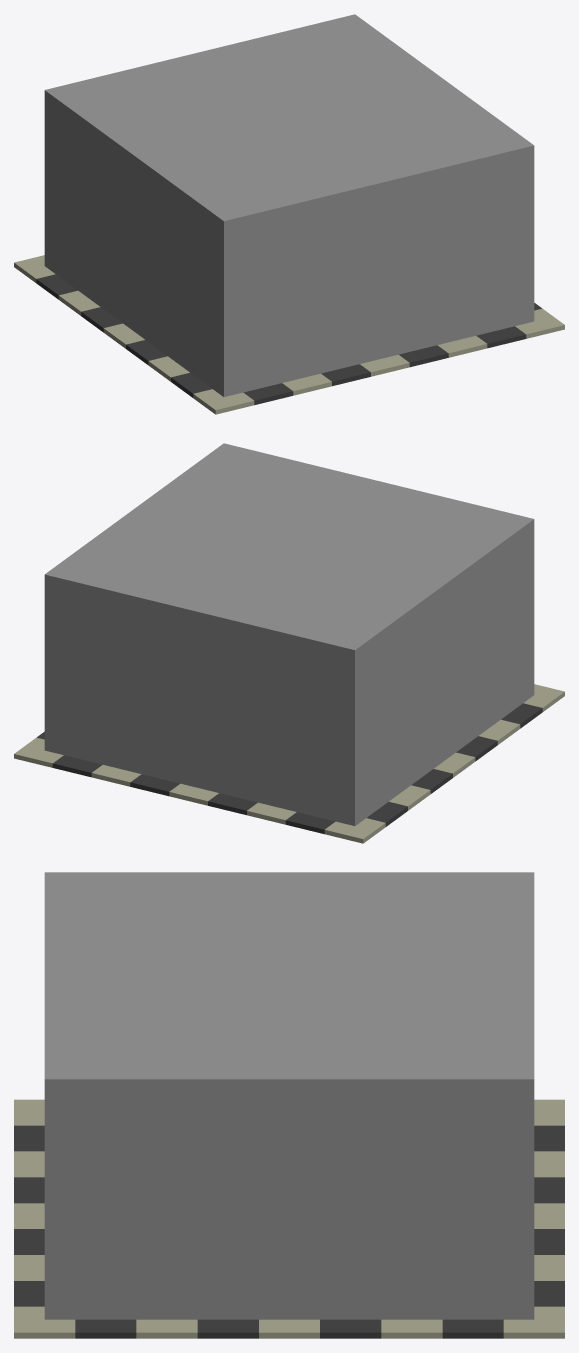
File: Blobbie_LargeAreaLamps.dae
The picture shows the model from 3 angles, top to bottom: view 1: azimuth 30°, elevation 25°; view 2: azimuth 150°, elevation 25°; view 3: azimuth 270°, elevation 25°; orthographic projection. The views are drawn at different scales.
Parts seen in each view (by area): view 1: frontWall, ceiling, leftWall, floorTileAt_-4_-4_, floorTileAt_4_-4_, floorTileAt_3_-4_, floorTileAt_-3_-4_, floorTileAt_1_-4_, floorTileAt_2_-4_, floorTileAt_-2_-4_, floorTileAt_-1_-4_, floorTileAt_0_-4_ (+8 smaller); view 2: backWall, ceiling, leftWall, floorTileAt_-4__4_, floorTileAt_4__4_, floorTileAt_3__4_, floorTileAt_-3__4_, floorTileAt_1__4_, floorTileAt_2__4_, floorTileAt_-2__4_, floorTileAt_-1__4_, floorTileAt_0__4_ (+8 smaller); view 3: rightWall, ceiling, floorTileAt_4_-4_, floorTileAt_4__4_, floorTileAt_4_-2_, floorTileAt_4__2_, floorTileAt_4_-3_, floorTileAt_4_-1_, floorTileAt_4__1_, floorTileAt_4__3_, floorTileAt_4__0_, floorTileAt_-4_-4_ (+15 smaller).
Boxes of the visible parts, x1,y1,x2,y2 form: frontWall: (224, 145, 534, 396); ceiling: (45, 14, 533, 220); leftWall: (44, 90, 223, 396); floorTileAt_-4_-4_: (193, 389, 254, 414); floorTileAt_4_-4_: (515, 308, 564, 338); floorTileAt_3_-4_: (476, 326, 526, 348); floorTileAt_-3_-4_: (243, 383, 293, 405); floorTileAt_1_-4_: (399, 345, 448, 367); floorTileAt_2_-4_: (437, 336, 487, 357); floorTileAt_-2_-4_: (282, 373, 331, 395); floorTileAt_-1_-4_: (321, 364, 370, 386); floorTileAt_0_-4_: (360, 354, 409, 376); backWall: (44, 574, 354, 825); ceiling: (45, 443, 533, 649); leftWall: (355, 519, 534, 825); floorTileAt_-4__4_: (324, 818, 385, 843); floorTileAt_4__4_: (14, 737, 63, 767); floorTileAt_3__4_: (52, 755, 102, 777); floorTileAt_-3__4_: (285, 812, 335, 834); floorTileAt_1__4_: (130, 774, 179, 796); floorTileAt_2__4_: (91, 765, 141, 786); floorTileAt_-2__4_: (247, 802, 296, 824); floorTileAt_-1__4_: (208, 793, 257, 815); floorTileAt_0__4_: (169, 783, 218, 805); rightWall: (44, 1079, 534, 1319); ceiling: (44, 872, 534, 1079); floorTileAt_4_-4_: (14, 1306, 75, 1338); floorTileAt_4__4_: (503, 1306, 564, 1338); floorTileAt_4_-2_: (136, 1319, 197, 1338); floorTileAt_4__2_: (381, 1319, 442, 1338); floorTileAt_4_-3_: (75, 1319, 136, 1338); floorTileAt_4_-1_: (197, 1319, 258, 1338); floorTileAt_4__1_: (320, 1319, 381, 1338); floorTileAt_4__3_: (442, 1319, 503, 1338); floorTileAt_4__0_: (259, 1319, 319, 1338); floorTileAt_-4_-4_: (14, 1099, 44, 1125).
Size of the model in its own units: 202 by 202 by 100.
